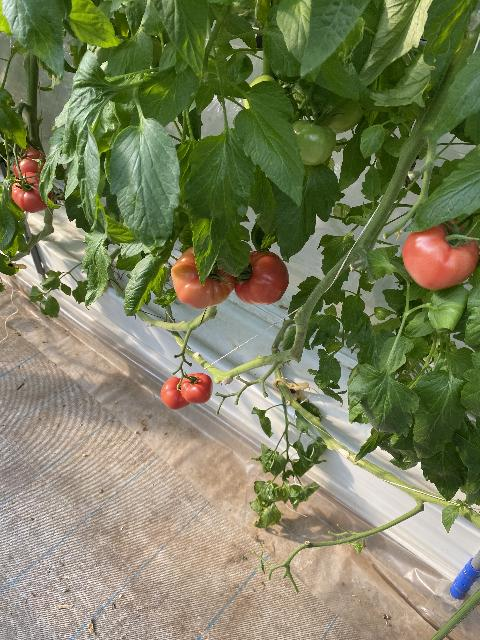b_fully_ripened: (402, 219, 479, 290), (235, 250, 289, 306), (12, 172, 53, 213), (13, 147, 46, 178), (160, 376, 190, 410), (181, 373, 213, 404)
b_green: (292, 120, 337, 165)
b_half_ripened: (171, 246, 235, 309)
